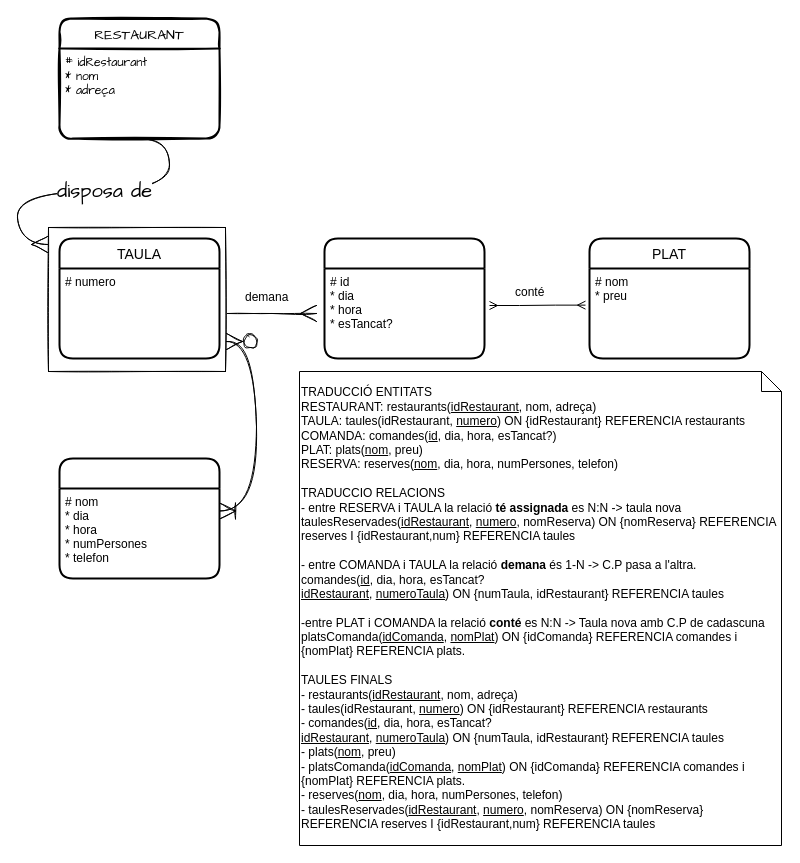
Some shapes in this 800 by 863 pixel diagram are drawn without their labels. The shapes that lost their labels are listed below. From the top down, each one's box as (x1, y1, x2, y2) in pixels, then its label:
(323, 237, 485, 359): COMANDA
(58, 457, 220, 579): RESERVA
